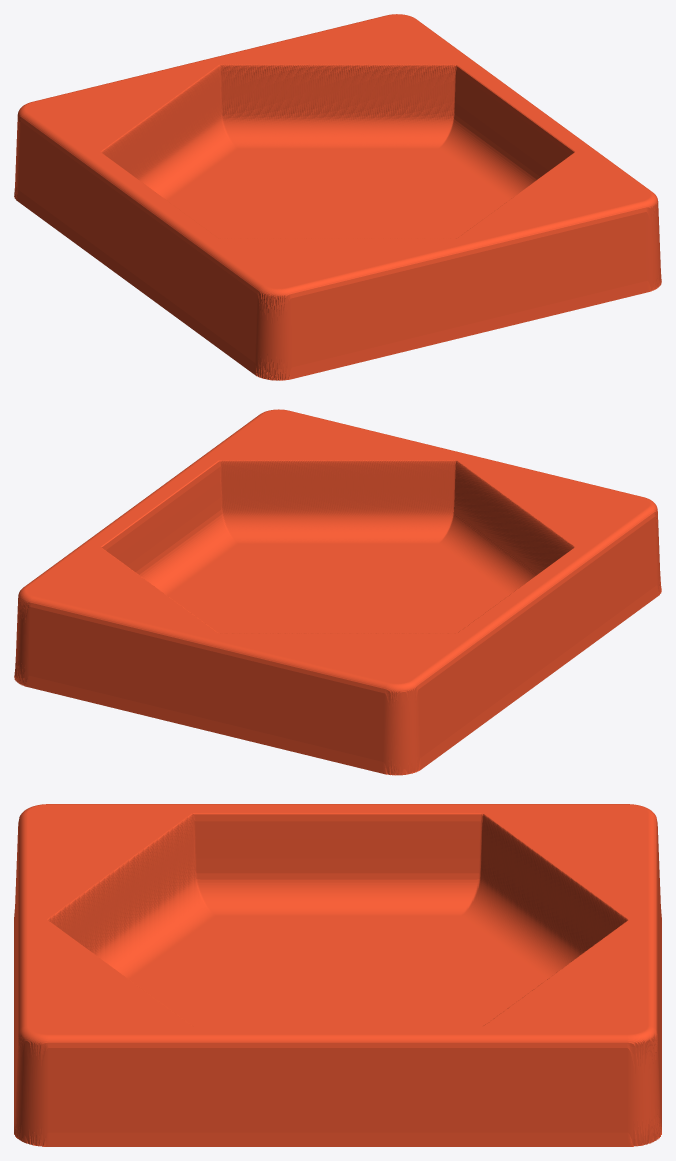
The model's file is mold.glb.
The picture shows the model from 3 angles, top to bottom: view 1: azimuth 30°, elevation 25°; view 2: azimuth 150°, elevation 25°; view 3: azimuth 270°, elevation 25°; orthographic projection. The views are drawn at different scales.
Visible parts, largest first — view 1: geometry_0; view 2: geometry_0; view 3: geometry_0.
Part boxes in pixels (x1=…): geometry_0: x1=14, y1=14, x2=661, y2=380; geometry_0: x1=14, y1=409, x2=661, y2=775; geometry_0: x1=14, y1=804, x2=661, y2=1146.
Size of the model in its own units: 0.1505 by 0.031 by 0.1709.
